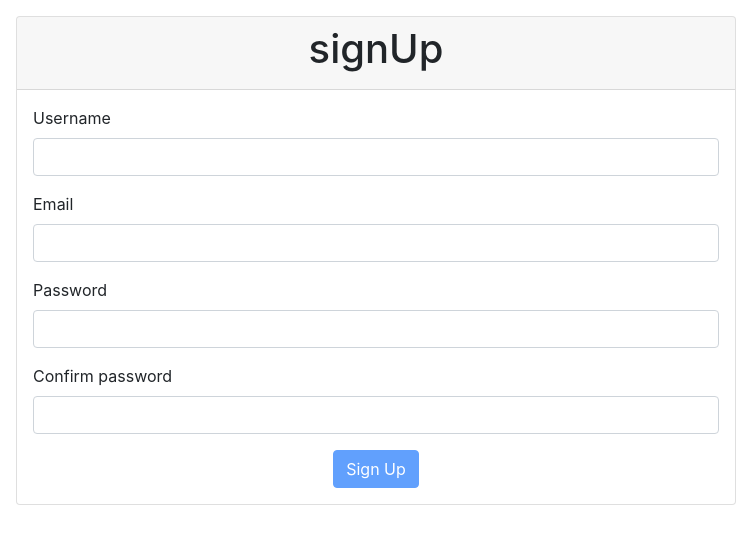
Scenario: SignUpPageWithTranslation › Interaction › displays E-mail cannot be null for field
Type "clemgbld" into the field labelled "Username" at x=376, y=157, box [33,138,719,176]
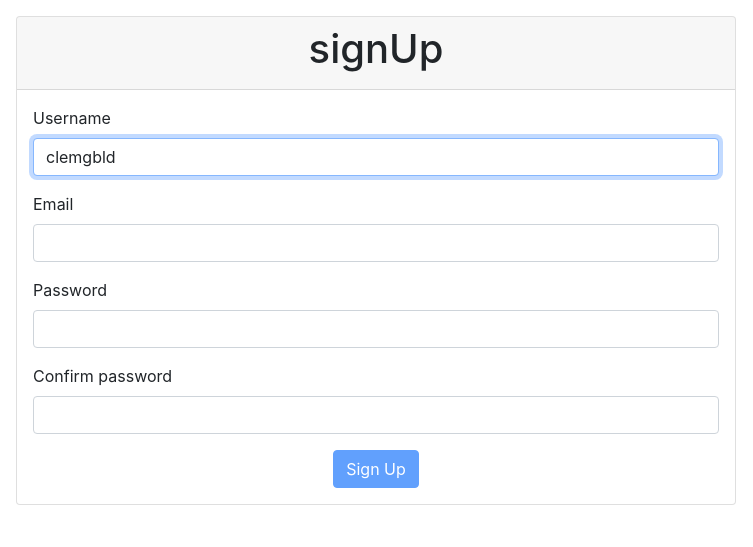
Type "exemple@hotmail.fr" into the field labelled "Email" at x=376, y=243, box [33,224,719,262]
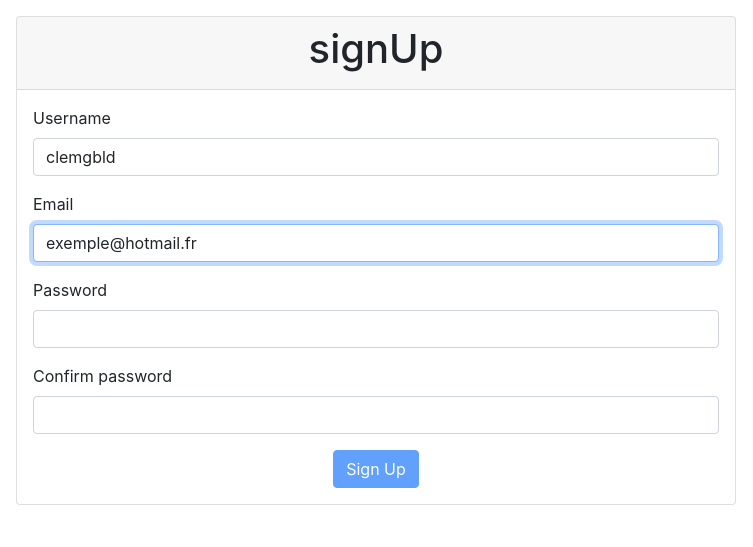
Type "azerty" into the password field labelled "Password" at x=376, y=329, box [33,310,719,348]
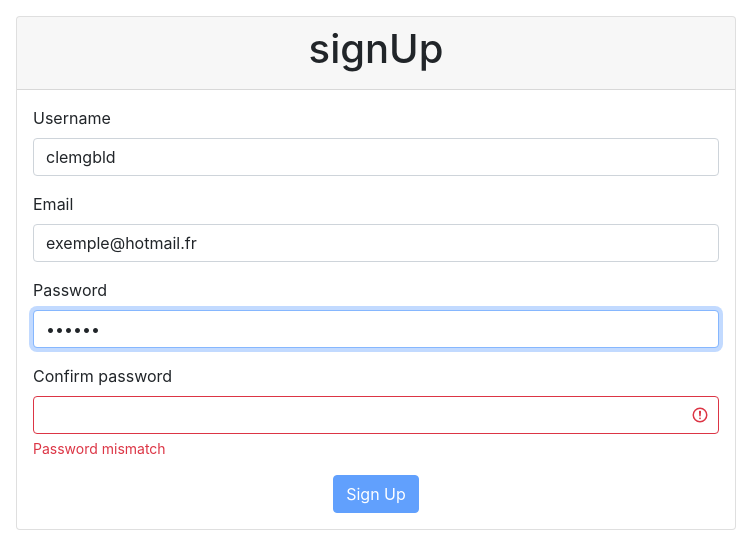
Type "azerty" into the password field labelled "Confirm password" at x=376, y=415, box [33,396,719,434]
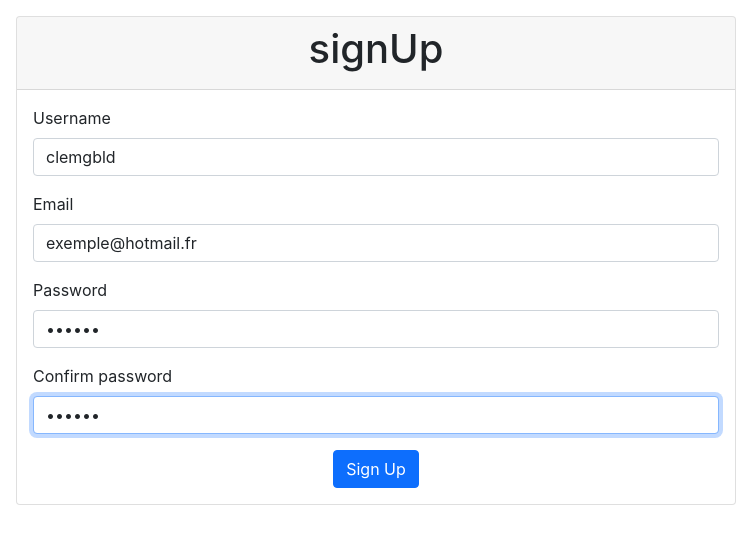
Click the button at x=376, y=469, box [333,450,419,488]
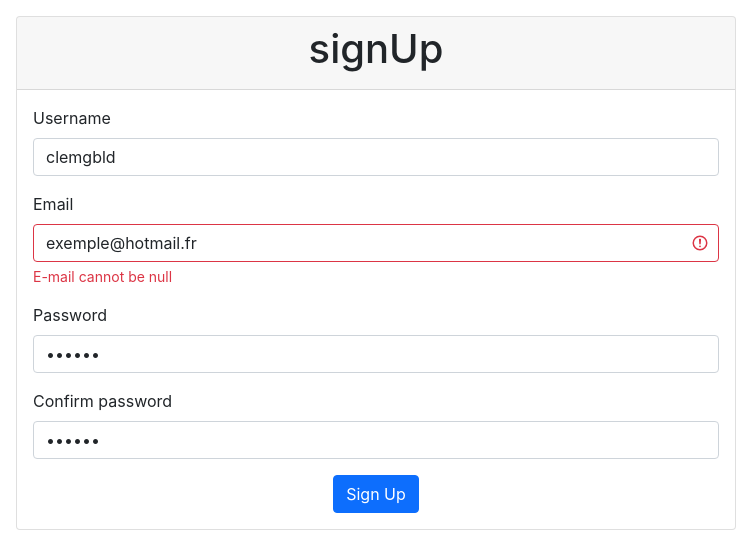
Expected: the text "E-mail cannot be null" is shown, [33,268,172,285]
